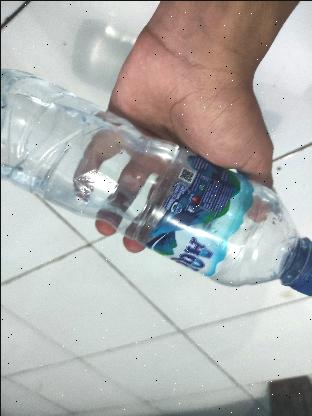Plastic Bottle: (0, 31, 312, 310)
